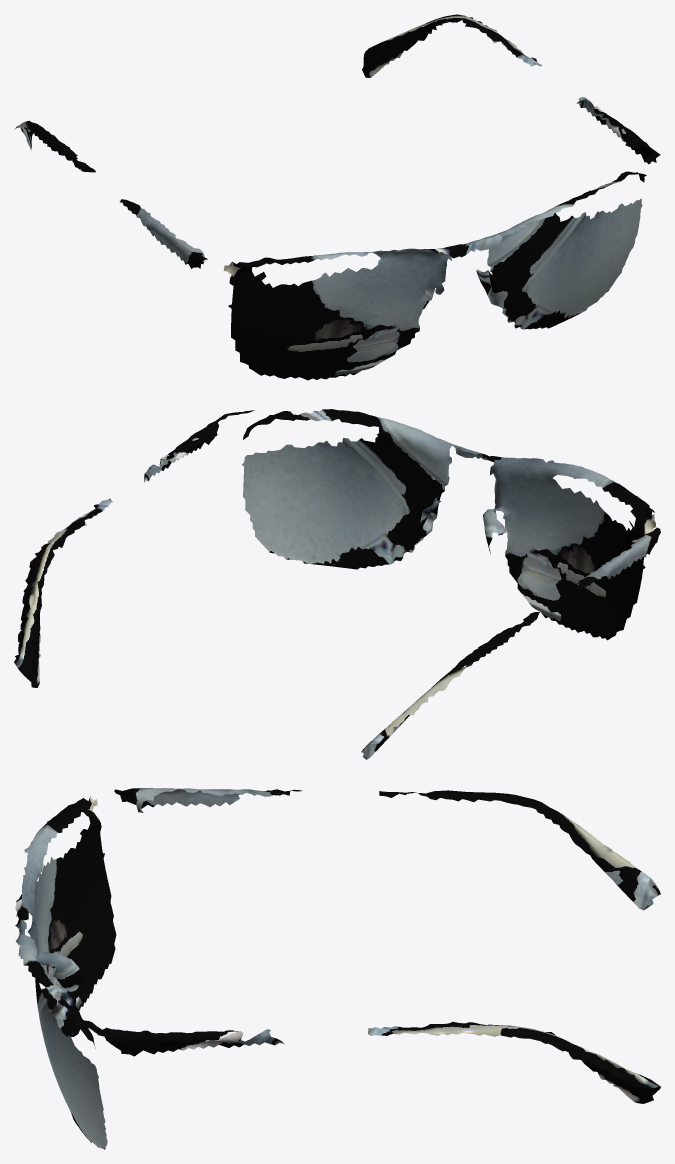
Rendered from scan_align.obj.
3 views of the same model, one above another, from view 1: azimuth 30°, elevation 25°; view 2: azimuth 150°, elevation 25°; view 3: azimuth 270°, elevation 25° (orthographic). The views are drawn at different scales.
Size of the model in its own units: 0.1427 by 0.043 by 0.1556.
